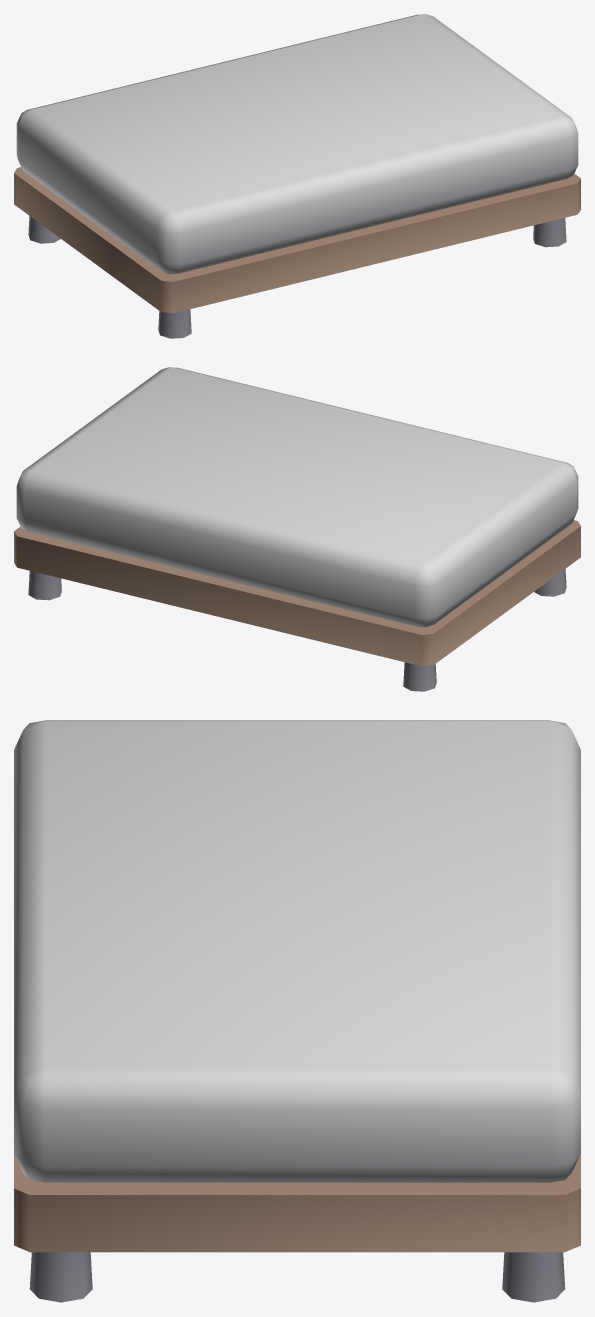
The model's file is bed-matress-single.glb.
The picture shows the model from 3 angles, top to bottom: view 1: azimuth 30°, elevation 25°; view 2: azimuth 150°, elevation 25°; view 3: azimuth 270°, elevation 25°; orthographic projection. The views are drawn at different scales.
Visible parts, largest first — view 1: bed-matress-single; view 2: bed-matress-single; view 3: bed-matress-single.
Boxes of the visible parts, x1,y1,x2,y2 form: bed-matress-single: (14,14,580,338); bed-matress-single: (14,367,580,691); bed-matress-single: (14,720,580,1302).
Size of the model in its own units: 1.4 by 0.4 by 0.9.
